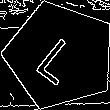L_NE: (31, 26, 89, 85)
